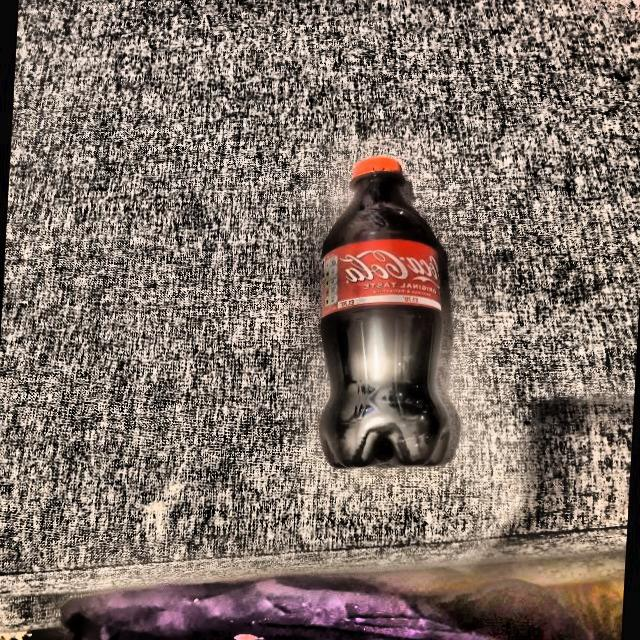coke-bottle: (318, 157, 462, 473)
